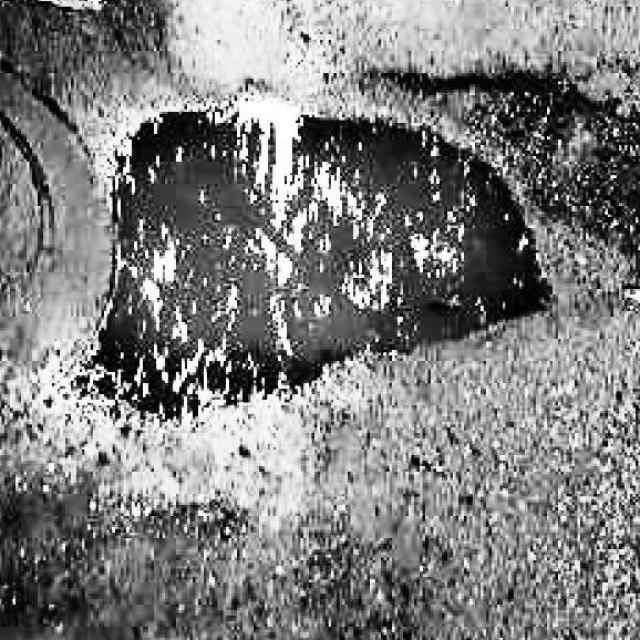Pothole: (68, 86, 566, 440)
